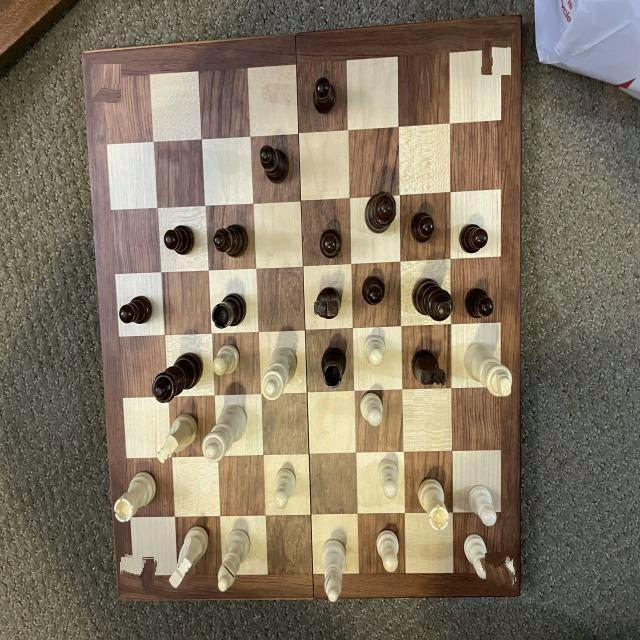chess-table-corners: (120, 556, 155, 593), (483, 552, 515, 589), (93, 64, 121, 103), (482, 41, 511, 75)
